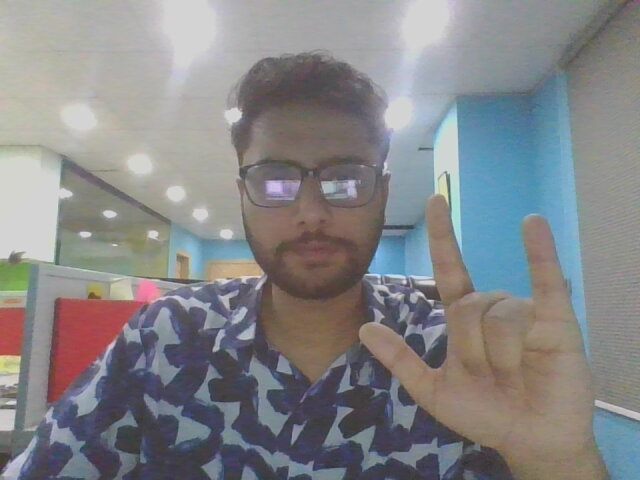iloveyou: (362, 188, 596, 463)
